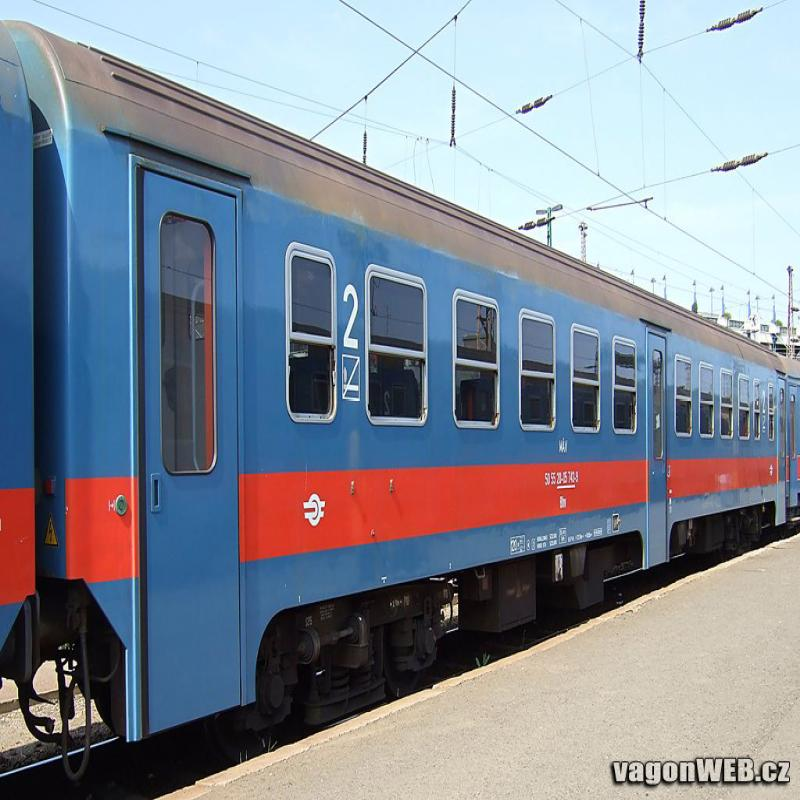train: (32, 24, 789, 800)
